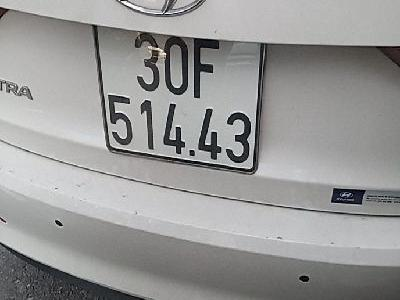car: (91, 22, 266, 172)
